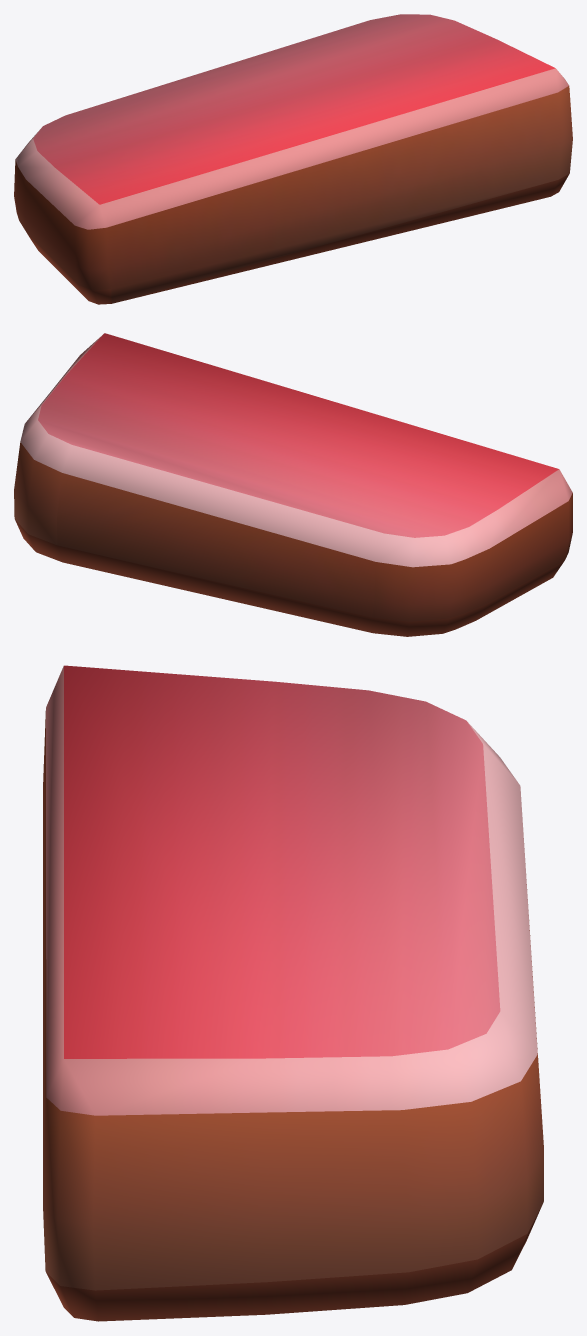
The picture shows the model from 3 angles, top to bottom: view 1: azimuth 30°, elevation 25°; view 2: azimuth 150°, elevation 25°; view 3: azimuth 270°, elevation 25°; orthographic projection. The views are drawn at different scales.
Parts seen in each view (by area): view 1: 10-3; view 2: 10-3; view 3: 10-3.
Part boxes in pixels (bbox=[...]): 10-3: bbox=[14, 14, 572, 304]; 10-3: bbox=[14, 333, 572, 636]; 10-3: bbox=[43, 665, 543, 1321].
Size of the model in its own units: 11.37 by 2.8 by 5.02.
